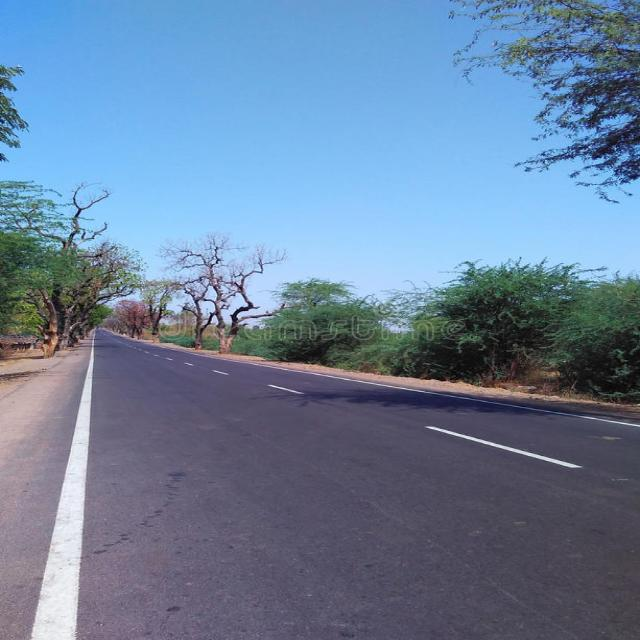Clean road: (0, 321, 640, 640)
